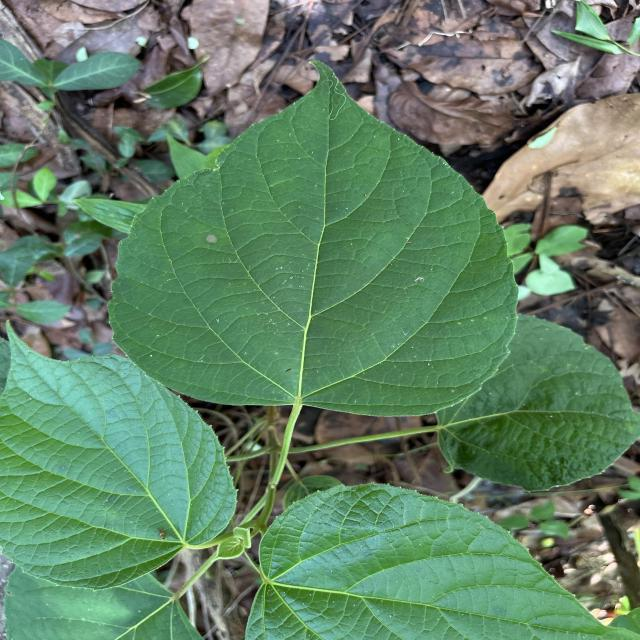Clerodendrum infortunatum: (103, 57, 521, 420), (0, 316, 240, 592)
